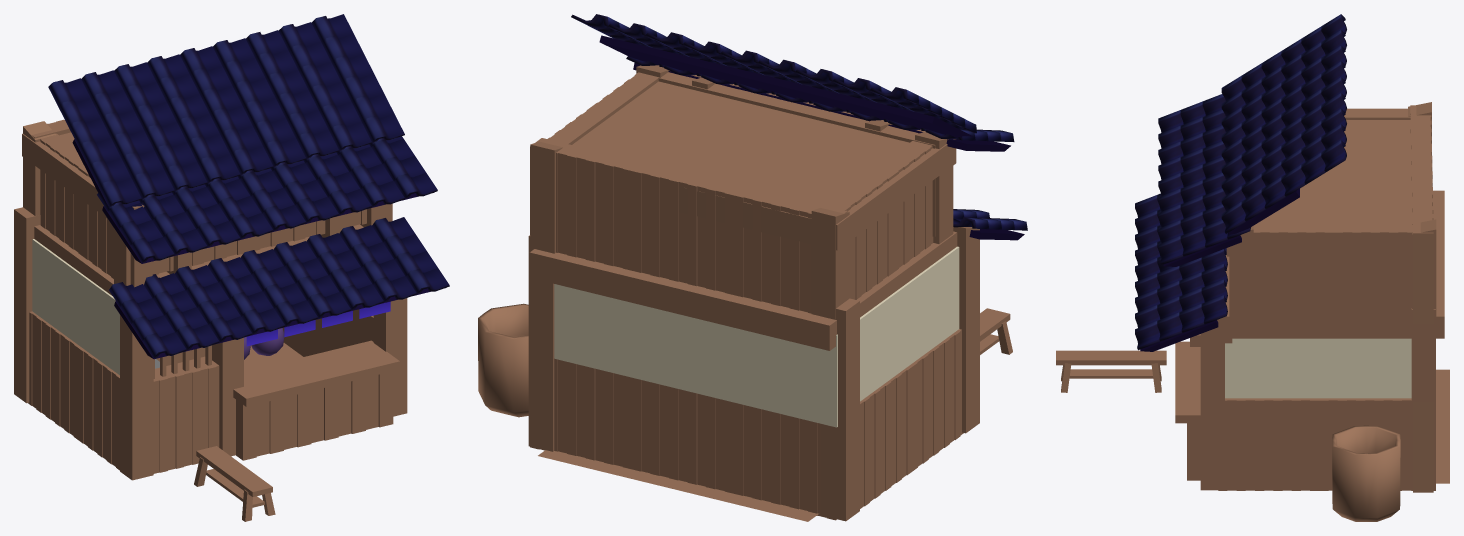
The model's file is asset1.glb.
3 renders of one model, left to right at view 1: azimuth 30°, elevation 25°; view 2: azimuth 150°, elevation 25°; view 3: azimuth 270°, elevation 25°, orthographic. The views are drawn at different scales.
Parts seen in each view (by area): view 1: Cube.038, Plane.009, Cube.011, Plane.004, Icosphere; view 2: Plane.009, Cube.011, Cube.038; view 3: Plane.009, Cube.038, Cube.011.
Part boxes in pixels (box(x1,y1,x2,y2)): Cube.038: box(48, 14, 449, 359); Plane.009: box(14, 119, 407, 521); Cube.011: box(32, 239, 373, 375); Plane.004: box(246, 301, 390, 346); Icosphere: box(244, 328, 284, 359); Plane.009: box(478, 65, 1012, 521); Cube.011: box(554, 246, 959, 427); Cube.038: box(571, 14, 1027, 240); Plane.009: box(1056, 102, 1449, 521); Cube.038: box(1135, 14, 1346, 351); Cube.011: box(1225, 338, 1411, 398).
Size of the model in its own units: 33.94 by 31.5 by 32.62.
11 materials, 3 textured.
